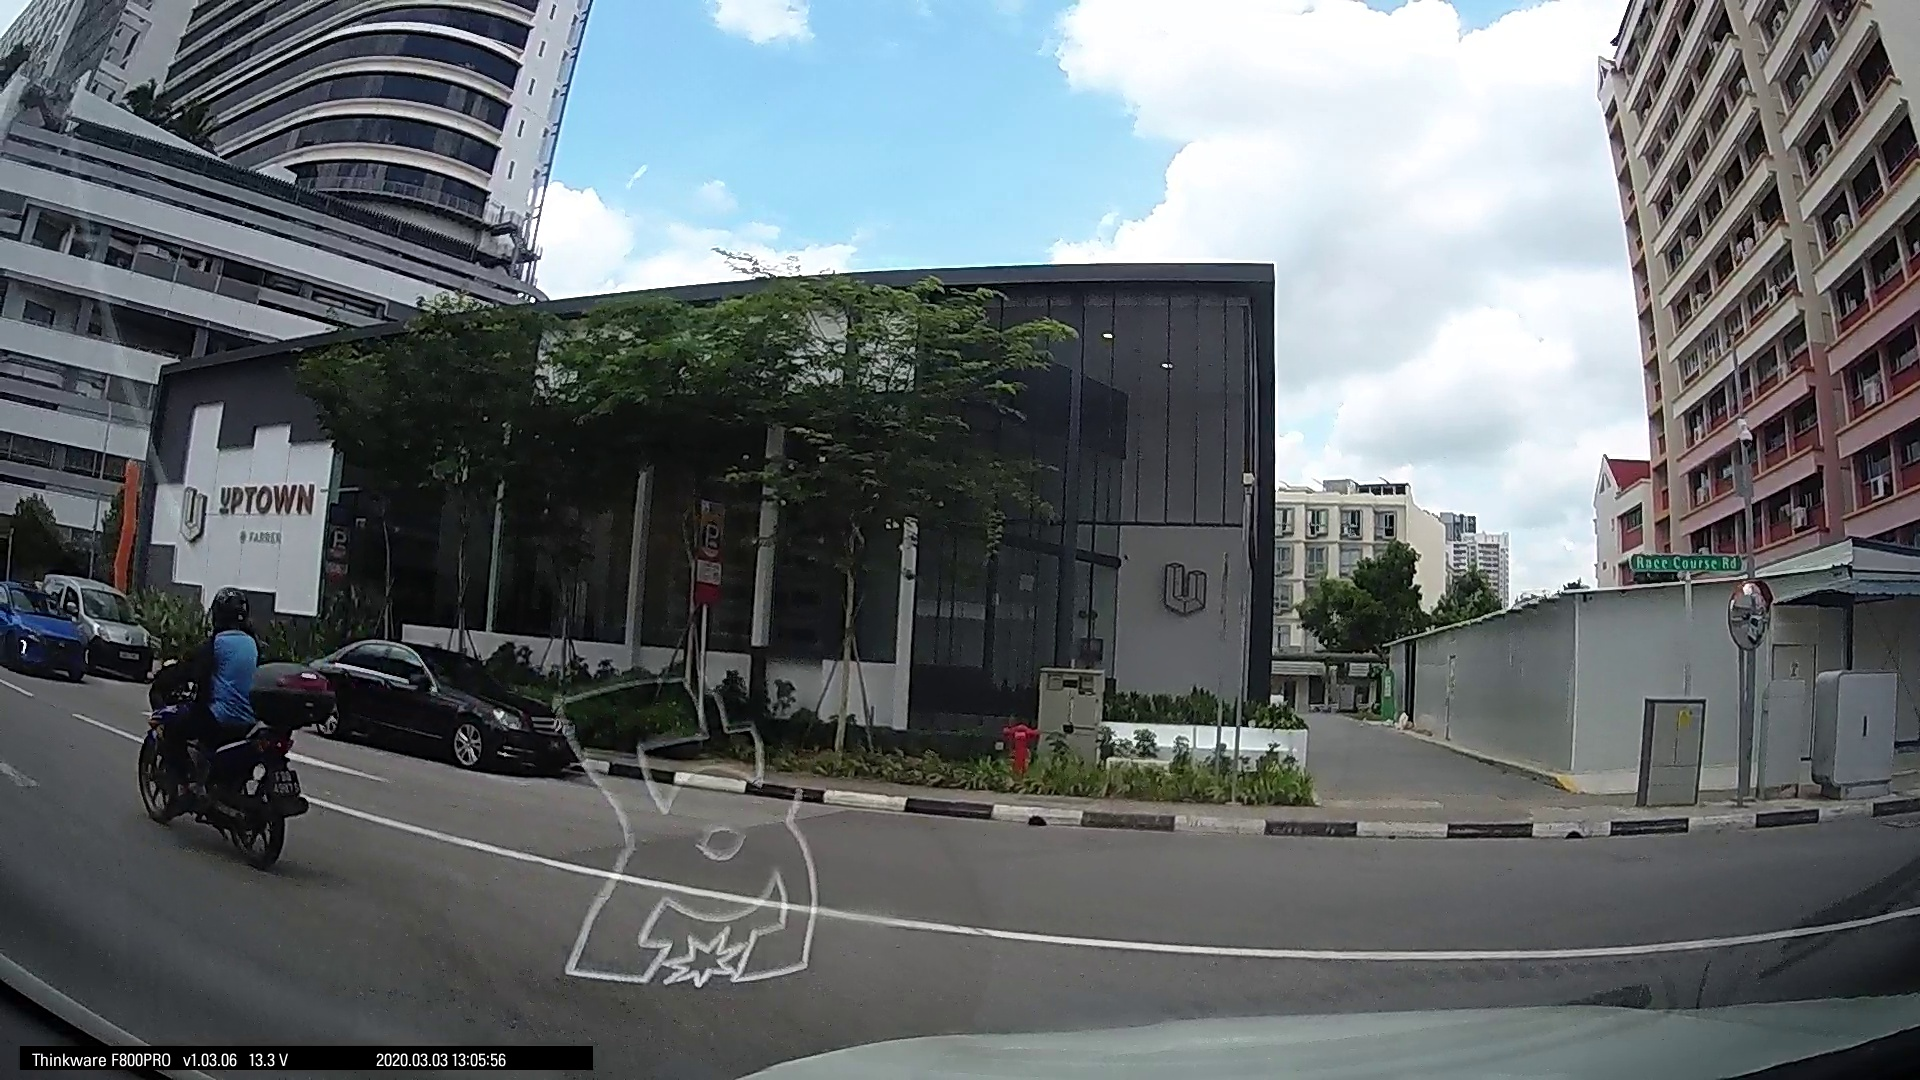Light Vehicle: (307, 629, 579, 777), (7, 574, 156, 680)
Motorcycle: (125, 616, 314, 869)
